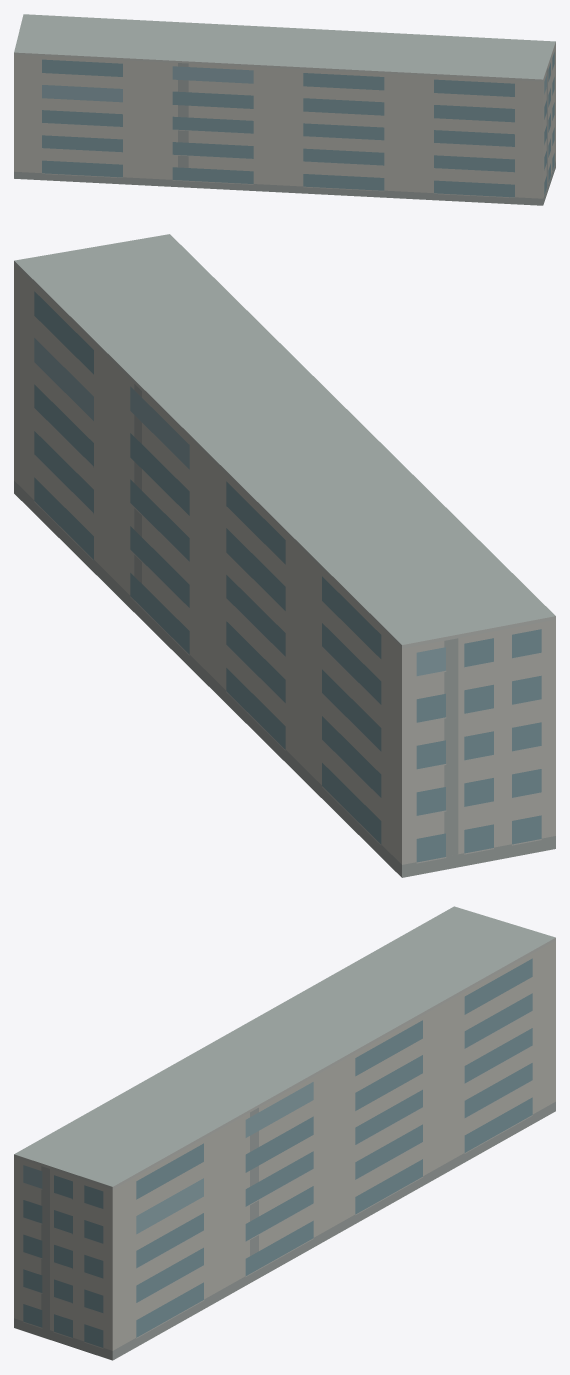
File: survey-upis-32941250.glb
The picture shows the model from 3 angles, top to bottom: view 1: azimuth 30°, elevation 25°; view 2: azimuth 150°, elevation 25°; view 3: azimuth 270°, elevation 25°; orthographic projection. The views are drawn at different scales.
Parts seen in each view (by area): view 1: survey-upis-32941250.tmp; view 2: survey-upis-32941250.tmp; view 3: survey-upis-32941250.tmp.
Boxes of the visible parts, bbox=[...] form: survey-upis-32941250.tmp: bbox=[14, 14, 555, 205]; survey-upis-32941250.tmp: bbox=[14, 234, 555, 877]; survey-upis-32941250.tmp: bbox=[14, 906, 555, 1360].
Size of the model in its own units: 52.84 by 15.25 by 43.13.
